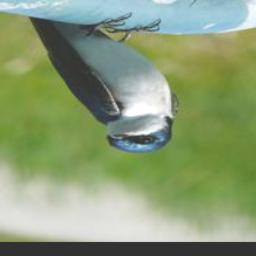Swallow: (28, 12, 183, 155)
